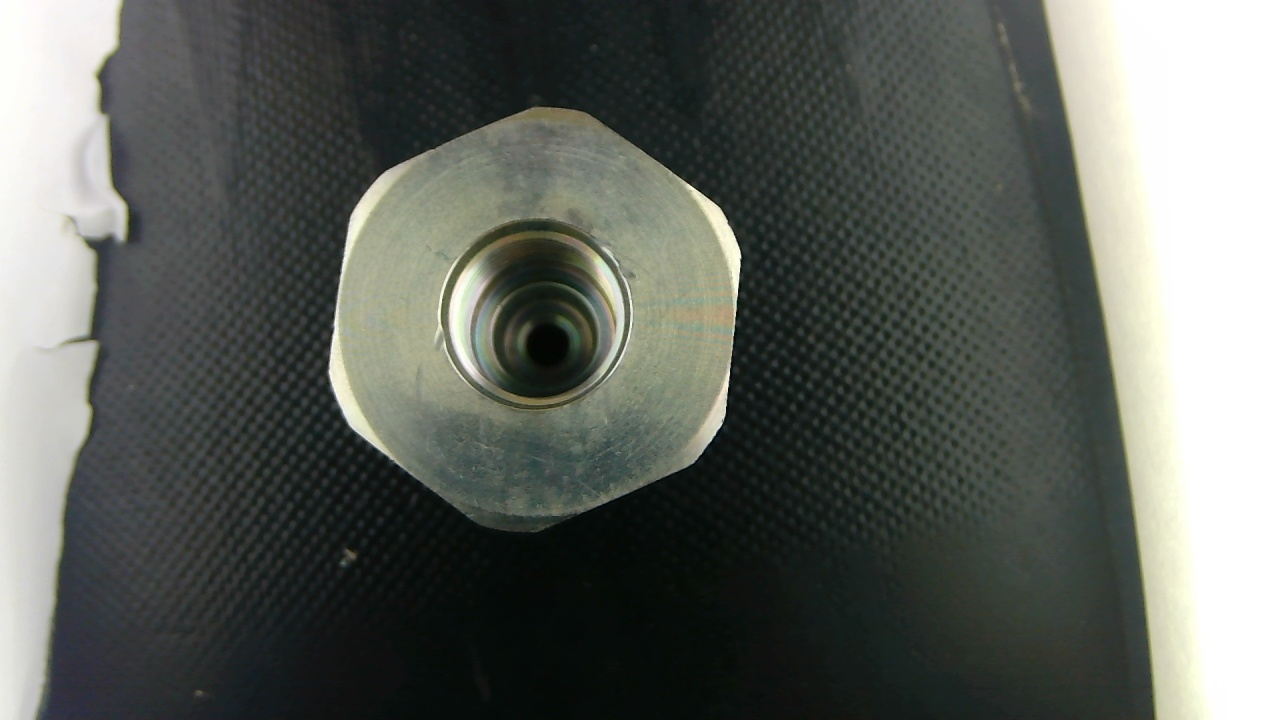Capnut_Surface_Dent: (599, 245, 639, 286)
